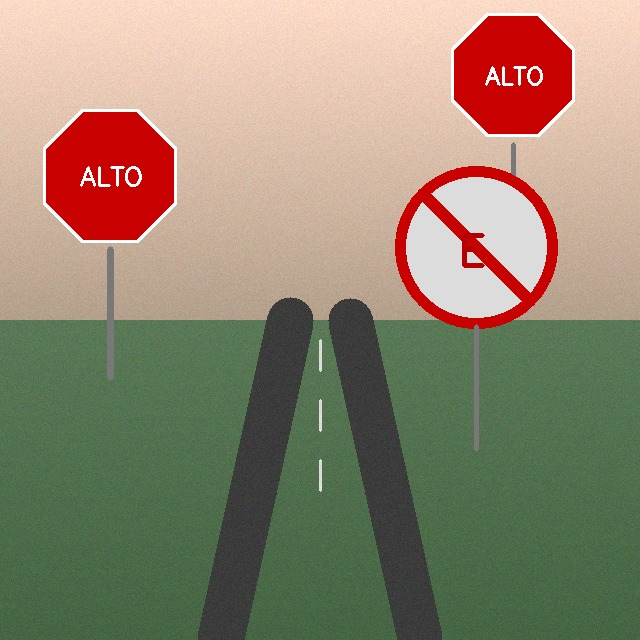alto: (37, 103, 183, 249), (445, 7, 582, 144)
no_estacionar: (398, 169, 555, 326)
